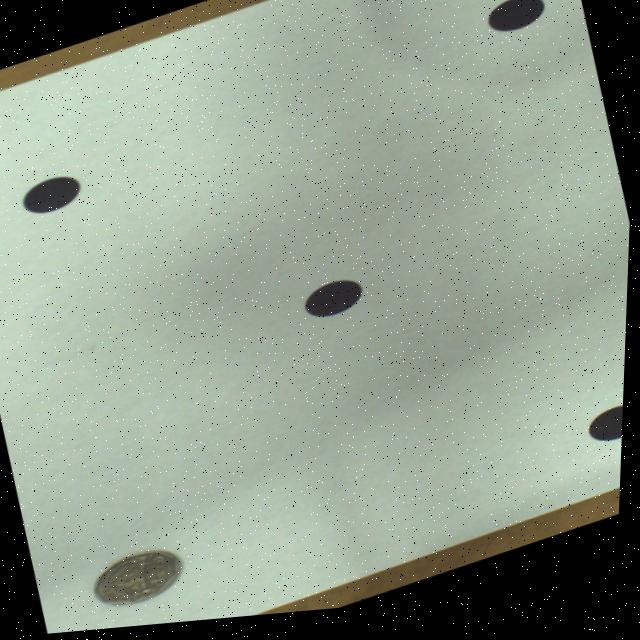space: (306, 286, 364, 323), (23, 178, 80, 214), (488, 5, 544, 41), (591, 417, 627, 453)
tail5bath: (99, 554, 185, 608)
